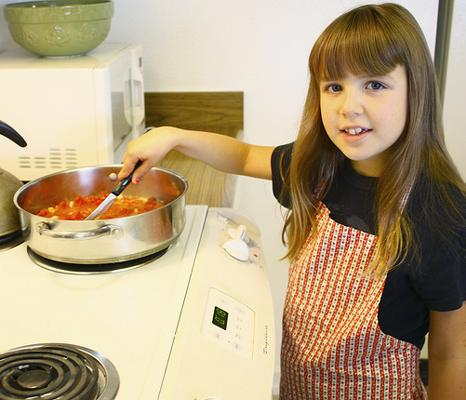person: (120, 1, 463, 399)
